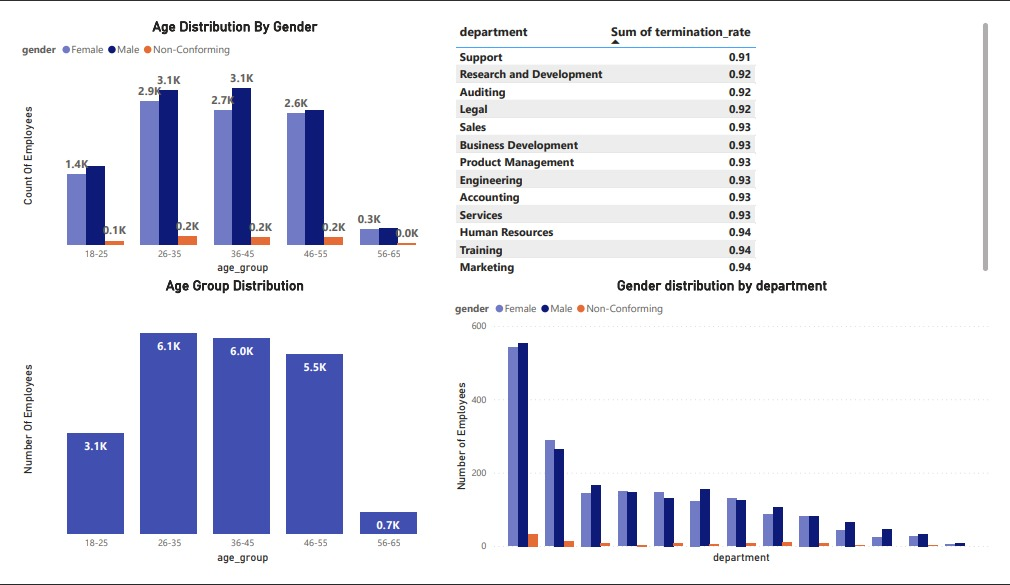

The dashboard page shown, as its layout file describes it:
{"tool":"powerbi","page":{"name":"Page 2","canvas":[1280,720],"ordinal":1},"visuals":[{"type":"columnChart","title":"Age Group Distribution","fields":{"Category":["age group.age_group"],"Y":["Sum(age group.count)"]},"box":[0,340,568.6,380],"z":0},{"type":"clusteredColumnChart","title":"Age Distribution By Gender","fields":{"Series":["age group-gender.gender"],"Category":["age group-gender.age_group"],"Y":["Sum(age group-gender.count)"]},"box":[0,0,568.6,340],"z":1000},{"type":"tableEx","fields":{"Values":["turnover_rate.department","Sum(turnover_rate.termination_rate)"]},"box":[568.6,0,711.4,340],"z":2000},{"type":"clusteredColumnChart","title":"Gender distribution by department","fields":{"Category":["gender department.department"],"Y":["Sum(gender department.count)"],"Series":["gender department.gender"]},"box":[568.6,340,711.4,380],"z":3000}]}

Visuals, with their boxes in screenshot pixels (x1, y1, x2, y2), scaled from the page's 1280x720 canvas onto the 1010x585 screenshot:
"Age Group Distribution" columnChart: rect(0, 276, 449, 584)
"Age Distribution By Gender" clusteredColumnChart: rect(0, 0, 449, 276)
tableEx - turnover_rate.department x Sum(turnover_rate.termination_rate): rect(449, 0, 1009, 276)
"Gender distribution by department" clusteredColumnChart: rect(449, 276, 1009, 584)
